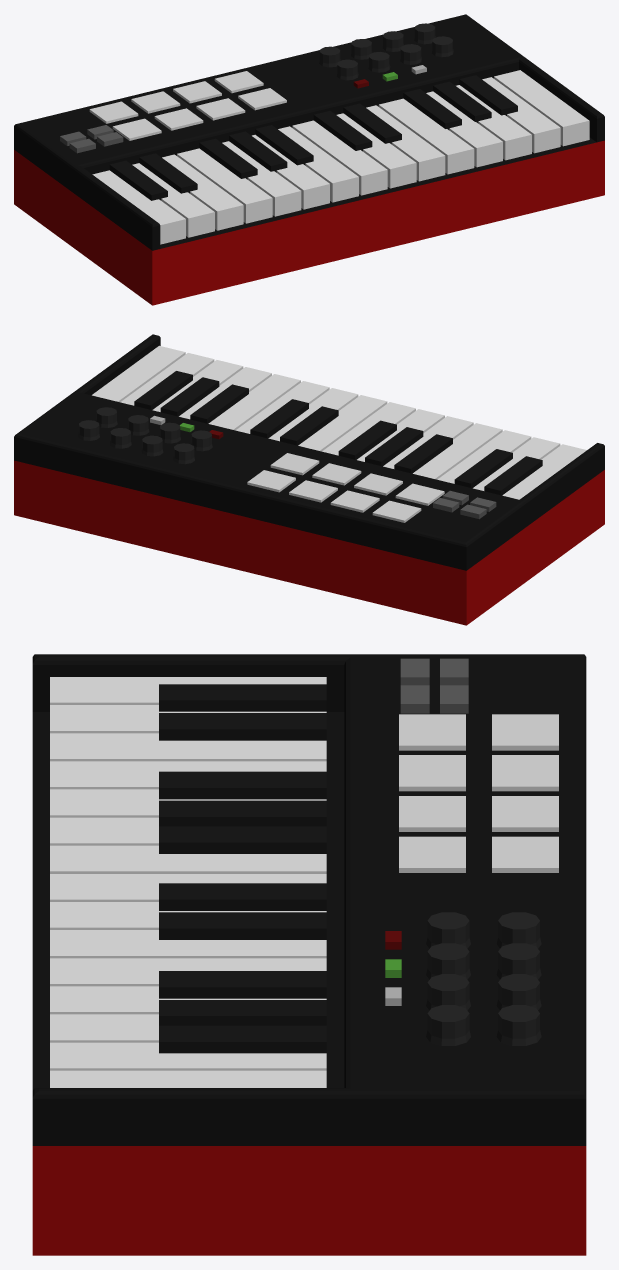
File: Midi Keyboard21.fbx
3 views of the same model, one above another, from view 1: azimuth 30°, elevation 25°; view 2: azimuth 150°, elevation 25°; view 3: azimuth 270°, elevation 25° (orthographic). The views are drawn at different scales.
Parts seen in each view (by area): view 1: 49keysmidi.022; view 2: 49keysmidi.022; view 3: 49keysmidi.022.
Part boxes in pixels (box(x1,y1,x2,y2)): 49keysmidi.022: box(14, 14, 604, 305); 49keysmidi.022: box(14, 334, 604, 625); 49keysmidi.022: box(32, 654, 586, 1255).
Size of the model in its own units: 36.49 by 7.13 by 19.33.
